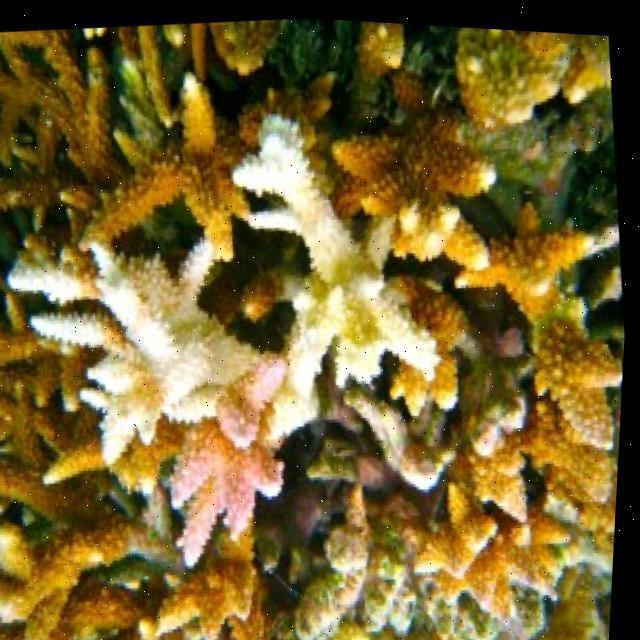Bleached Coral: (198, 114, 469, 487), (6, 237, 279, 462)
Healthy Coral: (455, 180, 621, 550), (0, 513, 261, 640)
